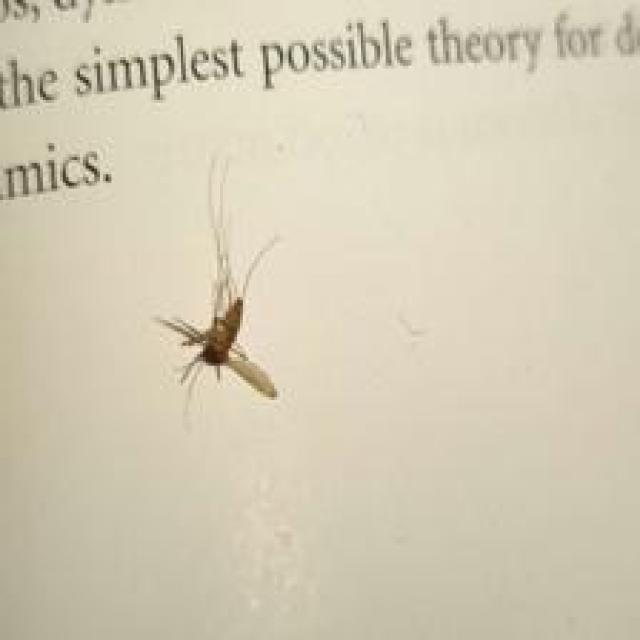Culex: (153, 153, 281, 413)
